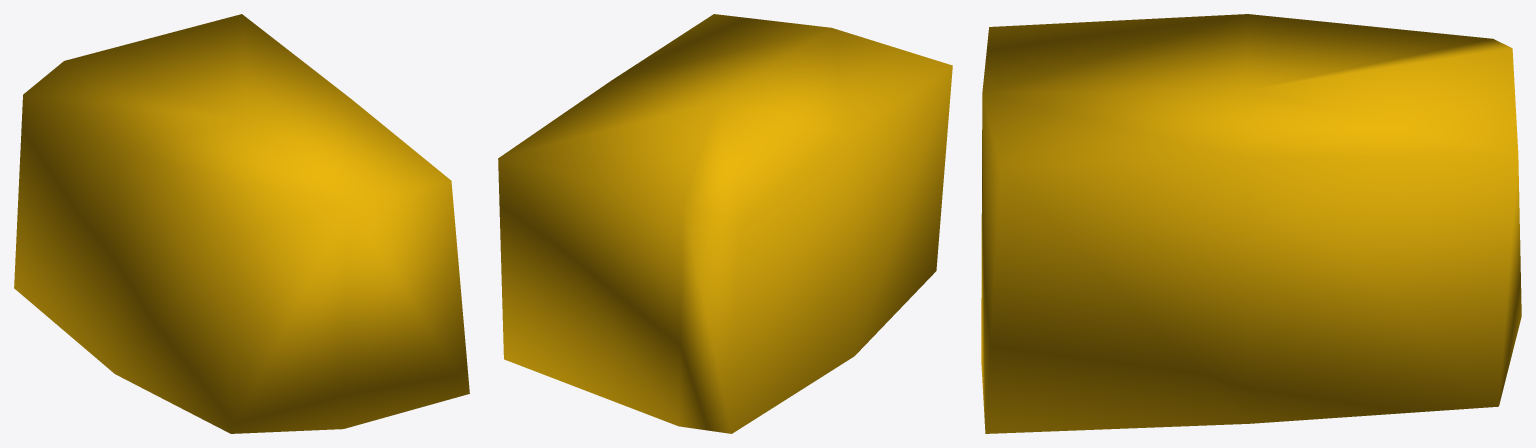
Rendered from Stone_Block_04_Lod1.fbx.
3 renders of one model, left to right at view 1: azimuth 30°, elevation 25°; view 2: azimuth 150°, elevation 25°; view 3: azimuth 270°, elevation 25°, orthographic. The views are drawn at different scales.
Visible parts, largest first — view 1: Stone_Block_04_Lod1; view 2: Stone_Block_04_Lod1; view 3: Stone_Block_04_Lod1.
Boxes of the visible parts, x1=… form: Stone_Block_04_Lod1: x1=14, y1=14, x2=469, y2=433; Stone_Block_04_Lod1: x1=498, y1=14, x2=952, y2=433; Stone_Block_04_Lod1: x1=981, y1=14, x2=1521, y2=433.
Bounding box in the file's own units: 612 × 535 × 935.
